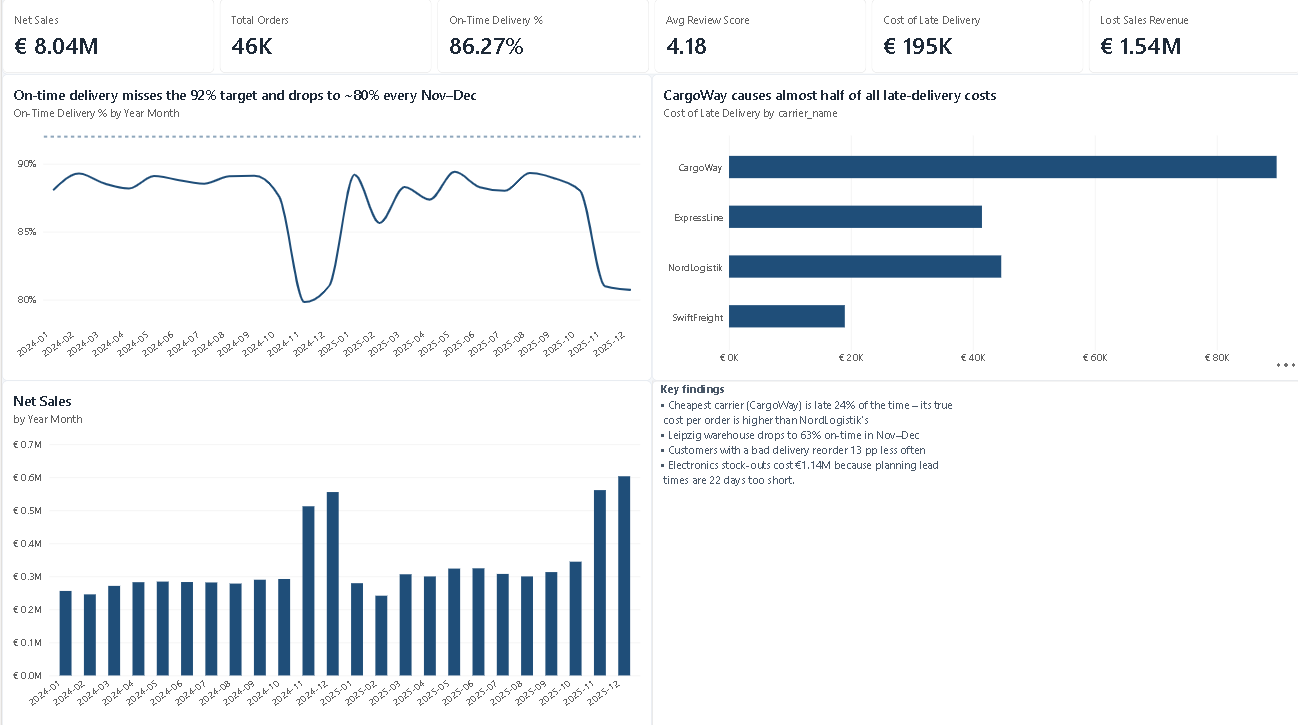

The page's visual inventory and layout, read from the dashboard file:
{"tool":"powerbi","page":{"name":"Overview","canvas":[1920,1080],"ordinal":0},"visuals":[{"type":"cardVisual","fields":{"Data":["_Measures.Net Sales","_Measures.Total Orders","_Measures.On-Time Delivery %","_Measures.Avg Review Score","_Measures.Cost of Late Delivery","_Measures.Lost Sales Revenue"]},"box":[0,0,1920,112.5],"z":1},{"type":"lineChart","title":"   On-time delivery misses the 92% target and drops to ~80% every Nov–Dec","fields":{"Category":["Date.Year Month"],"Y":["_Measures.On-Time Delivery %"]},"box":[0,112.5,960,452.5],"z":2},{"type":"clusteredColumnChart","fields":{"Category":["Date.Year Month"],"Y":["_Measures.Net Sales"]},"box":[0,565,960,515],"z":3},{"type":"clusteredBarChart","title":"   CargoWay causes almost half of all late-delivery costs","fields":{"Category":["Carriers.carrier_name"],"Y":["_Measures.Cost of Late Delivery"]},"box":[959.6,112.7,960.4,452.5],"z":4},{"type":"textbox","box":[960,565,960,515],"z":5}]}

Visuals, with their boxes in screenshot pixels (x1, y1, x2, y2), scaled from the page's 1920x1080 canvas onto the 1298x725 screenshot:
cardVisual - _Measures.Net Sales x _Measures.Total Orders: <region>0, 0, 1297, 76</region>
"   On-time delivery misses the 92% target and drops to ~80% every Nov–Dec" lineChart: <region>0, 76, 649, 379</region>
clusteredColumnChart - Date.Year Month x _Measures.Net Sales: <region>0, 379, 649, 724</region>
"   CargoWay causes almost half of all late-delivery costs" clusteredBarChart: <region>649, 76, 1297, 379</region>
textbox: <region>649, 379, 1297, 724</region>
